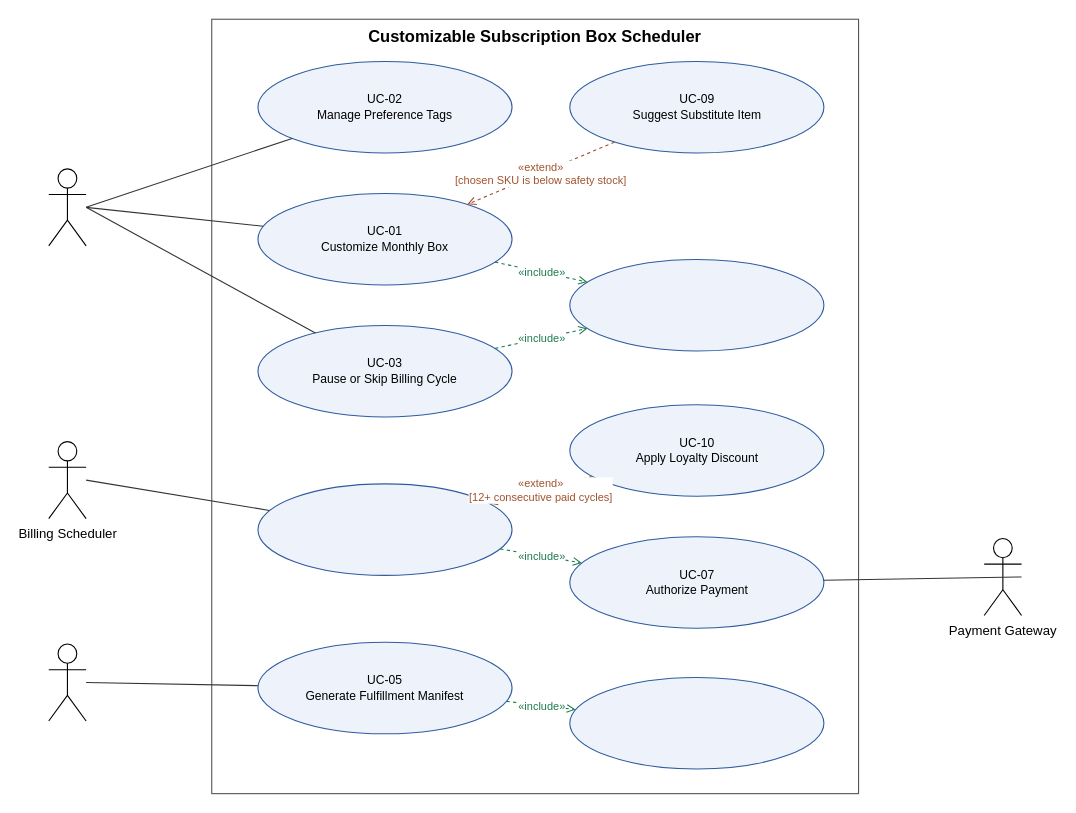
Some shapes in this 1076 by 813 pixel diagram are drawn without their labels. The centre of each missing label's shape, as x and y in pixels:
"Fulfillment Lead" goes at pixel 67 682.
"Subscriber" goes at pixel 67 207.
"UC-04 Process Renewal Billing" goes at pixel 384 529.
"UC-06 Validate Customization Window" goes at pixel 696 304.
"UC-08 Export Shipping Labels" goes at pixel 696 722.
